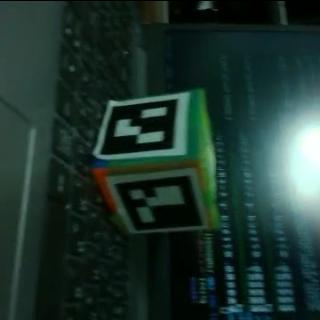armor: (94, 93, 188, 155), (108, 170, 205, 230)
robot: (86, 90, 220, 236)
